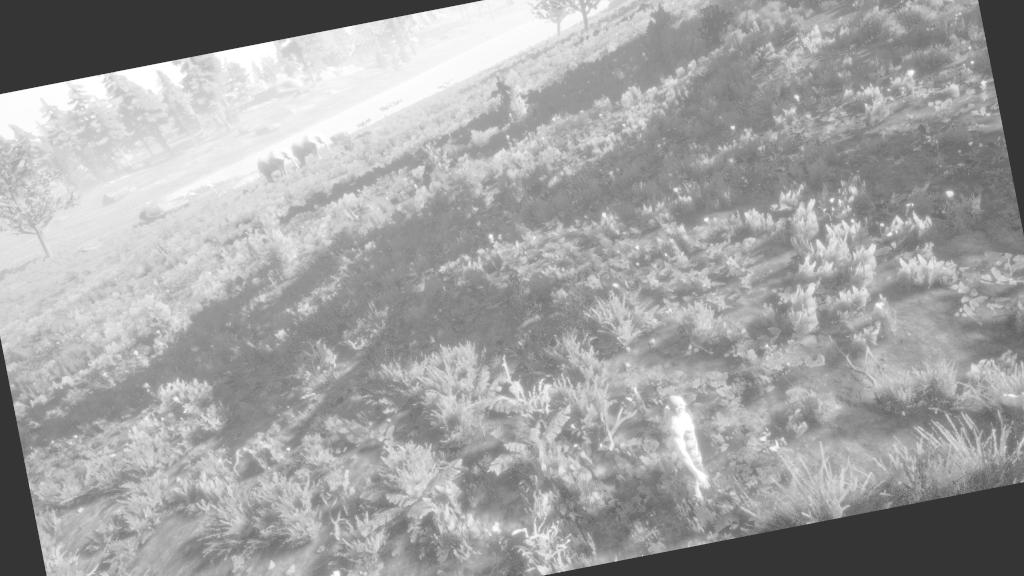elephant: (284, 118, 346, 172), (249, 142, 306, 193)
human: (620, 355, 758, 530)
